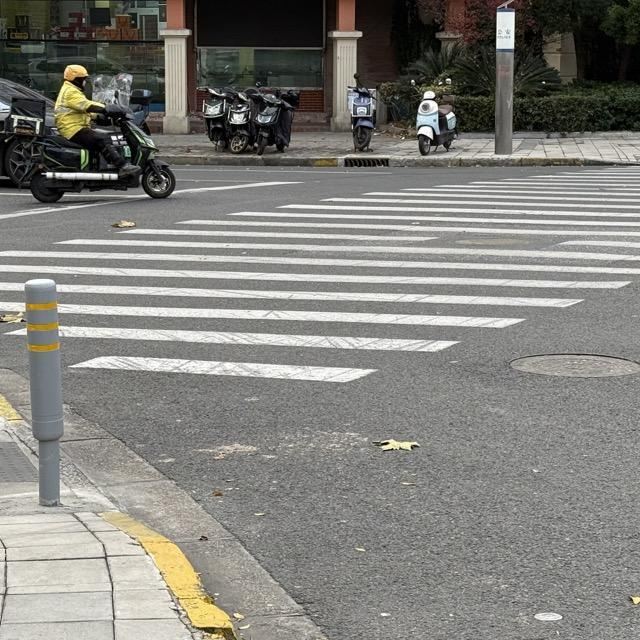curb: (61, 459, 237, 639), (160, 155, 637, 169), (0, 394, 38, 459), (515, 131, 639, 139), (461, 132, 493, 138)
